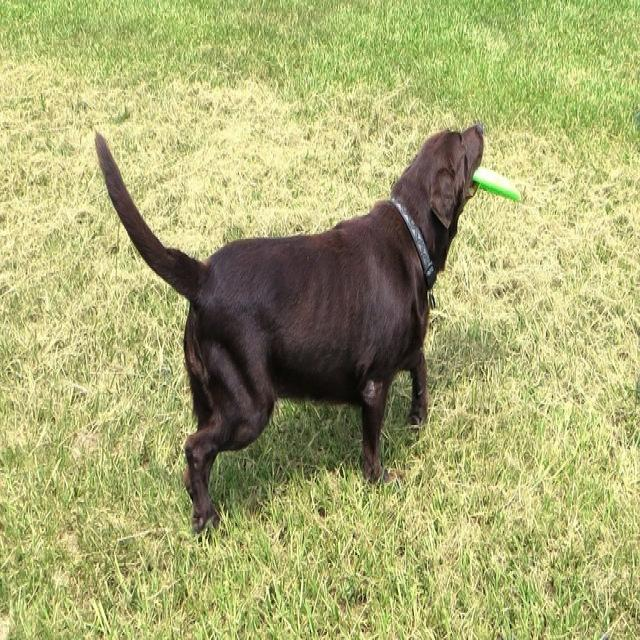dog: (92, 122, 483, 529)
